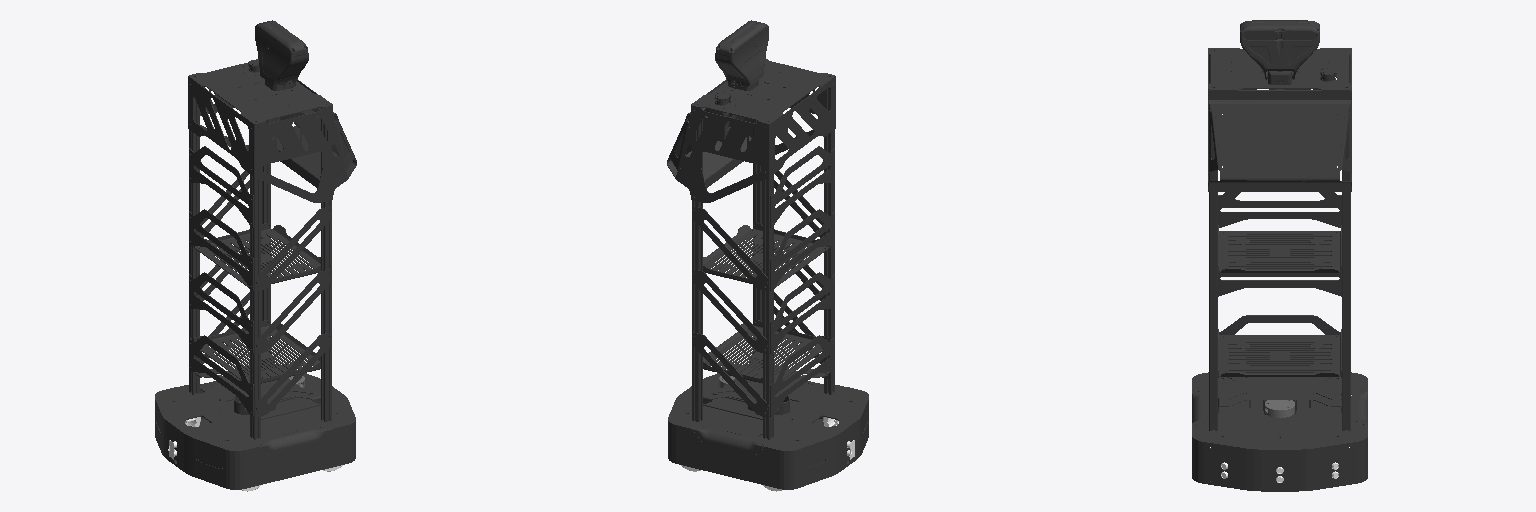
robot.urdf — sebot_urdf:
<?xml version="1.0" encoding="utf-8"?>
<!-- This URDF was automatically created by SolidWorks to URDF Exporter! Originally created by Stephen Brawner (brawner@gmail.com) 
     Commit Version: 1.5.1-0-g916b5db  Build Version: 1.5.7152.31018
     For more information, please see http://wiki.ros.org/sw_urdf_exporter -->
<robot
  name="sebot_urdf">

  <link
    name="base_footprint">
    <inertial>
      <origin
        xyz="0.050134 0.0042664 0.52581"
        rpy="0 0 0" />
      <mass
        value="3.6816" />
      <inertia
        ixx="0.060503"
        ixy="1.2725E-06"
        ixz="0.00072031"
        iyy="0.052944"
        iyz="-2.2079E-05"
        izz="0.03703" />
    </inertial>
    <visual>
      <origin
        xyz="0 0 0"
        rpy="0 0 0" />
      <geometry>
        <mesh
          filename="package://sebot_urdf/meshes/base_footprint.STL" />
      </geometry>
      <material
        name="">
        <color
          rgba="0.29804 0.29804 0.29804 1" />
      </material>
    </visual>
    <collision>
      <origin
        xyz="0 0 0"
        rpy="0 0 0" />
      <geometry>
        <mesh
          filename="package://sebot_urdf/meshes/base_footprint.STL" />
      </geometry>
    </collision>
  </link>

  <link name="imu" />

  <joint name="imu" type="fixed">
    <origin rpy="0 0 0" xyz="0 0 0" />
    <parent link="base_footprint"/>
    <child link="imu" />
  </joint>


  <link
    name="x_wheel1">
    <inertial>
      <origin
        xyz="5.0062E-08 0.014598 -2.3165E-05"
        rpy="0 0 0" />
      <mass
        value="0.13245" />
      <inertia
        ixx="0.00012046"
        ixy="-4.3968E-12"
        ixz="-6.6674E-11"
        iyy="0.00022052"
        iyz="1.2318E-09"
        izz="0.00012049" />
    </inertial>
    <visual>
      <origin
        xyz="0 0 0"
        rpy="0 0 0" />
      <geometry>
        <mesh
          filename="package://sebot_urdf/meshes/x_wheel1.STL" />
      </geometry>
      <material
        name="">
        <color
          rgba="1 1 1 1" />
      </material>
    </visual>
    <collision>
      <origin
        xyz="0 0 0"
        rpy="0 0 0" />
      <geometry>
        <mesh
          filename="package://sebot_urdf/meshes/x_wheel1.STL" />
      </geometry>
    </collision>
  </link>
  <joint
    name="x_wheel1"
    type="continuous">
    <origin
      xyz="0.115 0.182 0.0295"
      rpy="0 0 -3.1416" />
    <parent
      link="base_footprint" />
    <child
      link="x_wheel1" />
    <axis
      xyz="0 -1 0" />
  </joint>
  <link
    name="x_wheel2">
    <inertial>
      <origin
        xyz="-5.0062E-08 -0.014598 -2.3165E-05"
        rpy="0 0 0" />
      <mass
        value="0.13245" />
      <inertia
        ixx="0.00012046"
        ixy="-4.3968E-12"
        ixz="6.6674E-11"
        iyy="0.00022052"
        iyz="-1.2318E-09"
        izz="0.00012049" />
    </inertial>
    <visual>
      <origin
        xyz="0 0 0"
        rpy="0 0 0" />
      <geometry>
        <mesh
          filename="package://sebot_urdf/meshes/x_wheel2.STL" />
      </geometry>
      <material
        name="">
        <color
          rgba="1 1 1 1" />
      </material>
    </visual>
    <collision>
      <origin
        xyz="0 0 0"
        rpy="0 0 0" />
      <geometry>
        <mesh
          filename="package://sebot_urdf/meshes/x_wheel2.STL" />
      </geometry>
    </collision>
  </link>
  <joint
    name="x_wheel2"
    type="continuous">
    <origin
      xyz="0.115 -0.182 0.0295"
      rpy="0 0 -3.1416" />
    <parent
      link="base_footprint" />
    <child
      link="x_wheel2" />
    <axis
      xyz="0 -1 0" />
  </joint>
  <link
    name="x_wheel3">
    <inertial>
      <origin
        xyz="5.0062E-08 0.014598 -2.3165E-05"
        rpy="0 0 0" />
      <mass
        value="0.13245" />
      <inertia
        ixx="0.00012046"
        ixy="-4.3968E-12"
        ixz="-6.6674E-11"
        iyy="0.00022052"
        iyz="1.2318E-09"
        izz="0.00012049" />
    </inertial>
    <visual>
      <origin
        xyz="0 0 0"
        rpy="0 0 0" />
      <geometry>
        <mesh
          filename="package://sebot_urdf/meshes/x_wheel3.STL" />
      </geometry>
      <material
        name="">
        <color
          rgba="1 1 1 1" />
      </material>
    </visual>
    <collision>
      <origin
        xyz="0 0 0"
        rpy="0 0 0" />
      <geometry>
        <mesh
          filename="package://sebot_urdf/meshes/x_wheel3.STL" />
      </geometry>
    </collision>
  </link>
  <joint
    name="x_wheel3"
    type="continuous">
    <origin
      xyz="-0.115 0.182 0.0295"
      rpy="0 0 3.1416" />
    <parent
      link="base_footprint" />
    <child
      link="x_wheel3" />
    <axis
      xyz="0 -1 0" />
  </joint>
  <link
    name="x_wheel4">
    <inertial>
      <origin
        xyz="-5.0062E-08 -0.014598 -2.3165E-05"
        rpy="0 0 0" />
      <mass
        value="0.13245" />
      <inertia
        ixx="0.00012046"
        ixy="-4.3968E-12"
        ixz="6.6674E-11"
        iyy="0.00022052"
        iyz="-1.2318E-09"
        izz="0.00012049" />
    </inertial>
    <visual>
      <origin
        xyz="0 0 0"
        rpy="0 0 0" />
      <geometry>
        <mesh
          filename="package://sebot_urdf/meshes/x_wheel4.STL" />
      </geometry>
      <material
        name="">
        <color
          rgba="1 1 1 1" />
      </material>
    </visual>
    <collision>
      <origin
        xyz="0 0 0"
        rpy="0 0 0" />
      <geometry>
        <mesh
          filename="package://sebot_urdf/meshes/x_wheel4.STL" />
      </geometry>
    </collision>
  </link>
  <joint
    name="x_wheel4"
    type="continuous">
    <origin
      xyz="-0.115 -0.182 0.0295"
      rpy="0 0 3.1416" />
    <parent
      link="base_footprint" />
    <child
      link="x_wheel4" />
    <axis
      xyz="0 -1 0" />
  </joint>
  <link
    name="laser">
    <inertial>
      <origin
        xyz="0.1 0.0048121 0.0023608"
        rpy="0 0 0" />
      <mass
        value="0.010451" />
      <inertia
        ixx="3.2912E-06"
        ixy="-4.1483E-08"
        ixz="2.2028E-09"
        iyy="3.1516E-06"
        iyz="-2.0341E-08"
        izz="5.7796E-06" />
    </inertial>
    <visual>
      <origin
        xyz="0 0 0"
        rpy="0 0 0" />
      <geometry>
        <mesh
          filename="package://sebot_urdf/meshes/laser.STL" />
      </geometry>
      <material
        name="">
        <color
          rgba="0.48627 0.48627 0.48627 1" />
      </material>
    </visual>
    <collision>
      <origin
        xyz="0 0 0"
        rpy="0 0 0" />
      <geometry>
        <mesh
          filename="package://sebot_urdf/meshes/laser.STL" />
      </geometry>
    </collision>
  </link>
  <joint
    name="laser"
    type="fixed">
    <origin
      xyz="0.1 0 0.1519"
      rpy="0 0 -3.1416" />
    <parent
      link="base_footprint" />
    <child
      link="laser" />
    <axis
      xyz="0 0 0" />
  </joint>
  <link
    name="msgUltraLF">
    <inertial>
      <origin
        xyz="-0.0044296 -0.0015911 -0.00024981"
        rpy="0 0 0" />
      <mass
        value="0.0063366" />
      <inertia
        ixx="1.0371E-06"
        ixy="6.6201E-09"
        ixz="4.7616E-10"
        iyy="1.0326E-06"
        iyz="-1.2739E-09"
        izz="2.5129E-07" />
    </inertial>
    <visual>
      <origin
        xyz="0 0 0"
        rpy="0 0 0" />
      <geometry>
        <mesh
          filename="package://sebot_urdf/meshes/ultraLF.STL" />
      </geometry>
      <material
        name="">
        <color
          rgba="1 1 1 1" />
      </material>
    </visual>
    <collision>
      <origin
        xyz="0 0 0"
        rpy="0 0 0" />
      <geometry>
        <mesh
          filename="package://sebot_urdf/meshes/ultraLF.STL" />
      </geometry>
    </collision>
  </link>
  <joint
    name="msgUltraLF"
    type="fixed">
    <origin
      xyz="0.20177 0.1253 0.0415"
      rpy="0 0 0.25" />
    <parent
      link="base_footprint" />
    <child
      link="msgUltraLF" />
    <axis
      xyz="0 0 0" />
  </joint>
  <link
    name="msgUltraMF">
    <inertial>
      <origin
        xyz="-0.0047067 1.99E-05 -0.00024981"
        rpy="0 0 0" />
      <mass
        value="0.0063366" />
      <inertia
        ixx="1.0408E-06"
        ixy="3.6468E-09"
        ixz="1.1758E-11"
        iyy="1.0289E-06"
        iyz="-1.3599E-09"
        izz="2.5129E-07" />
    </inertial>
    <visual>
      <origin
        xyz="0 0 0"
        rpy="0 0 0" />
      <geometry>
        <mesh
          filename="package://sebot_urdf/meshes/ultraMF.STL" />
      </geometry>
      <material
        name="">
        <color
          rgba="1 1 1 1" />
      </material>
    </visual>
    <collision>
      <origin
        xyz="0 0 0"
        rpy="0 0 0" />
      <geometry>
        <mesh
          filename="package://sebot_urdf/meshes/ultraMF.STL" />
      </geometry>
    </collision>
  </link>
  <joint
    name="msgUltraMF"
    type="fixed">
    <origin
      xyz="0.2255 0 0.0415"
      rpy="0 0 0" />
    <parent
      link="base_footprint" />
    <child
      link="msgUltraMF" />
    <axis
      xyz="0 0 0" />
  </joint>
  <link
    name="msgUltraRF">
    <inertial>
      <origin
        xyz="-0.0044296 0.0015911 -0.00025026"
        rpy="0 0 0" />
      <mass
        value="0.0063366" />
      <inertia
        ixx="1.0371E-06"
        ixy="-6.6201E-09"
        ixz="-4.7616E-10"
        iyy="1.0326E-06"
        iyz="-1.2739E-09"
        izz="2.5129E-07" />
    </inertial>
    <visual>
      <origin
        xyz="0 0 0"
        rpy="0 0 0" />
      <geometry>
        <mesh
          filename="package://sebot_urdf/meshes/ultraRF.STL" />
      </geometry>
      <material
        name="">
        <color
          rgba="1 1 1 1" />
      </material>
    </visual>
    <collision>
      <origin
        xyz="0 0 0"
        rpy="0 0 0" />
      <geometry>
        <mesh
          filename="package://sebot_urdf/meshes/ultraRF.STL" />
      </geometry>
    </collision>
  </link>
  <joint
    name="msgUltraRF"
    type="fixed">
    <origin
      xyz="0.20177 -0.1253 0.0415"
      rpy="0 0 -0.25" />
    <parent
      link="base_footprint" />
    <child
      link="msgUltraRF" />
    <axis
      xyz="0 0 0" />
  </joint>
  <link
    name="msgUltraMB">
    <inertial>
      <origin
        xyz="0.0047067 -1.99E-05 -0.00024981"
        rpy="0 0 1.57" />
      <mass
        value="0.0063366" />
      <inertia
        ixx="1.0408E-06"
        ixy="3.6468E-09"
        ixz="-1.1758E-11"
        iyy="1.0289E-06"
        iyz="1.3599E-09"
        izz="2.5129E-07" />
    </inertial>
    <visual>
      <origin
        xyz="0 0 0"
        rpy="0 0 0" />
      <geometry>
        <mesh
          filename="package://sebot_urdf/meshes/ultraMB.STL" />
      </geometry>
      <material
        name="">
        <color
          rgba="1 1 1 1" />
      </material>
    </visual>
    <collision>
      <origin
        xyz="0 0 0"
        rpy="0 0 0" />
      <geometry>
        <mesh
          filename="package://sebot_urdf/meshes/ultraMB.STL" />
      </geometry>
    </collision>
  </link>
  <joint
    name="msgUltraMB"
    type="fixed">
    <origin
      xyz="-0.2255 0 0.0465"
      rpy="0 0 -3.1416" />
    <parent
      link="base_footprint" />
    <child
      link="msgUltraMB" />
    <axis
      xyz="0 0 0" />
  </joint>
  <link
    name="camera">
    <inertial>
      <origin
        xyz="-0.02317 -6.8322E-05 -0.025344"
        rpy="0 0 0" />
      <mass
        value="0.29454" />
      <inertia
        ixx="0.00075867"
        ixy="-1.3348E-08"
        ixz="-1.9588E-05"
        iyy="0.00021358"
        iyz="-1.8116E-07"
        izz="0.00073416" />
    </inertial>
    <visual>
      <origin
        xyz="0 0 0"
        rpy="0 0 0" />
      <geometry>
        <mesh
          filename="package://sebot_urdf/meshes/camera.STL" />
      </geometry>
      <material
        name="">
        <color
          rgba="0.29804 0.29804 0.29804 1" />
      </material>
    </visual>
    <collision>
      <origin
        xyz="0 0 0"
        rpy="0 0 0" />
      <geometry>
        <mesh
          filename="package://sebot_urdf/meshes/camera.STL" />
      </geometry>
    </collision>
  </link>
  <joint
    name="camera"
    type="fixed">
    <origin
      xyz="0.0995 0 1.0783"
      rpy="0 0 0" />
    <parent
      link="base_footprint" />
    <child
      link="camera" />
    <axis
      xyz="0 0 0" />
  </joint>

  <link name="camera_depth_frame" />
  <joint name="camera_depth_frame" type="fixed">
    <origin rpy="0 0 0" xyz="0 0 0" />
    <parent link="camera"/>
    <child link="camera_depth_frame" />
  </joint>


  <link name="camera_depth_optical_frame" />
  <joint name="camera_depth_optical_frame" type="fixed">
    <origin rpy="-1.57079632679 0 -1.57079632679" xyz="0 0 0" />
    <parent link="camera_depth_frame"/>
    <child link="camera_depth_optical_frame" />
  </joint>

</robot>

--- Render facts (derived) ---
3 views of the same robot in one strip: view 1: azimuth 30°, elevation 25°; view 2: azimuth 150°, elevation 25°; view 3: azimuth 270°, elevation 25° (orthographic).
Robot: sebot_urdf — 14 links, 13 joints (4 continuous, 9 fixed); root link base_footprint; default pose: every joint at zero.
Visible links, largest first — view 1: base_footprint, camera; view 2: base_footprint, camera; view 3: base_footprint, camera.
Link boxes in pixels (box(x1,y1,x2,y2)): base_footprint: box(155, 59, 356, 489); camera: box(255, 20, 308, 88); base_footprint: box(667, 59, 868, 489); camera: box(715, 20, 768, 88); base_footprint: box(1192, 48, 1367, 491); camera: box(1240, 20, 1319, 79).
Size in the robot's own frame: 0.4697 by 0.4 by 1.12 metres.
Meshes: 11 distinct files referenced, 11 mesh visuals loaded (11 binary STL).
